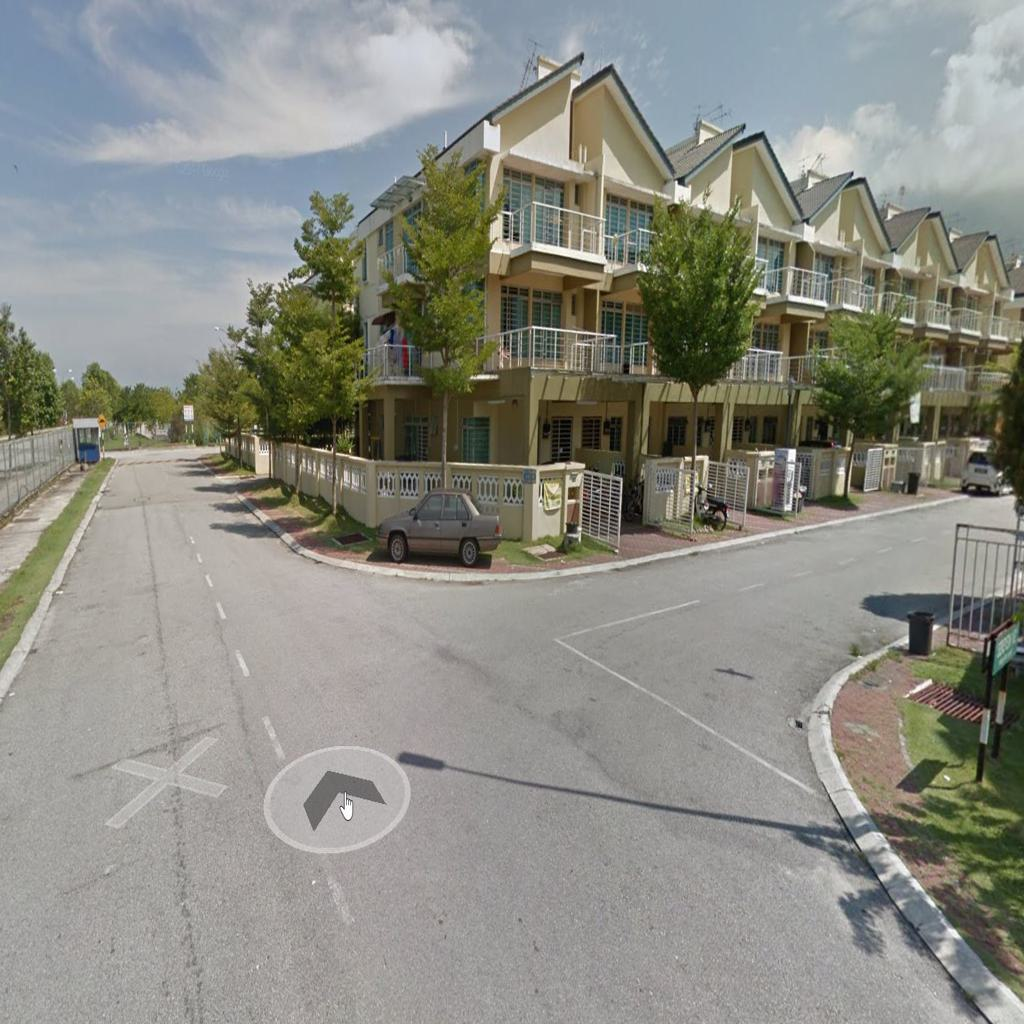Junction: (438, 483, 940, 821)
